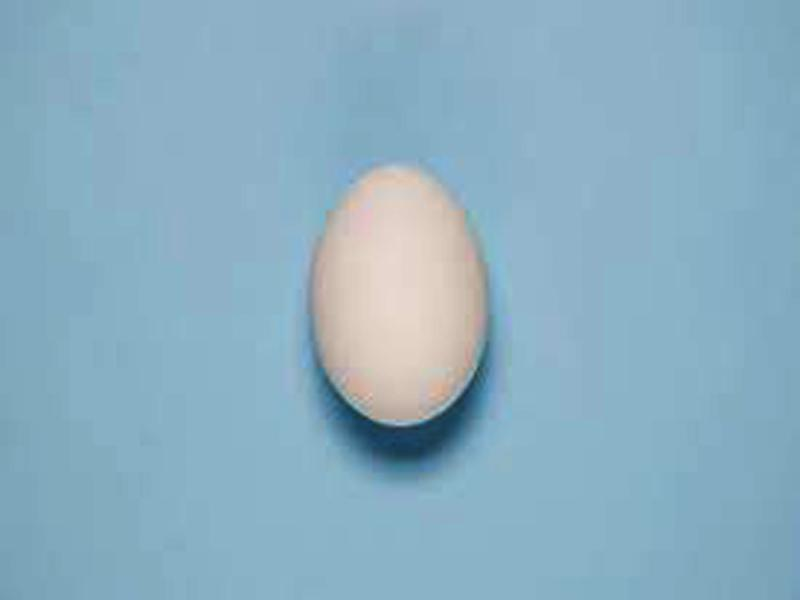Eggs: (308, 161, 486, 426)
